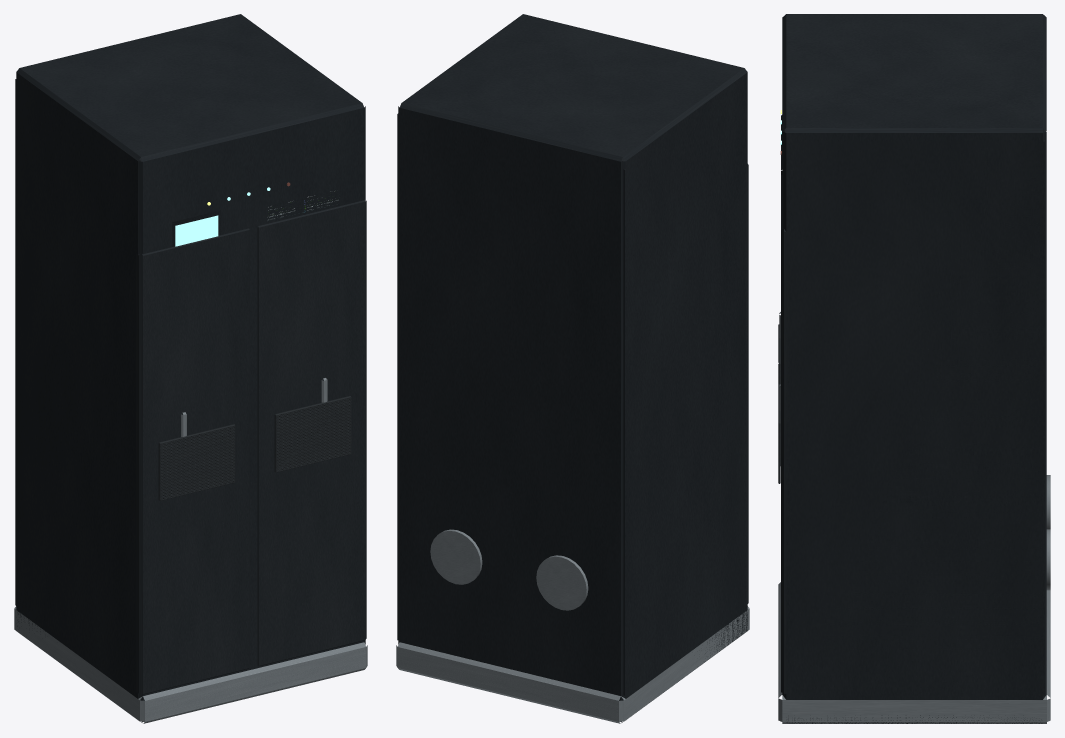
Rendered from ups_battery_cabinet.gltf.
3 views of the same model, side by side, from view 1: azimuth 30°, elevation 25°; view 2: azimuth 150°, elevation 25°; view 3: azimuth 270°, elevation 25° (orthographic). The views are drawn at different scales.
Visible parts, largest first — view 1: ups_cabinet_frame, ups_battery_cabinet_distance_shell, ups_door_left_panel, ups_door_right_panel, ups_telemetry_display; view 2: ups_battery_cabinet_distance_shell, ups_cabinet_frame, ups_cooling_fan_left, ups_cooling_fan_right, ups_door_left_panel; view 3: ups_battery_cabinet_distance_shell, ups_cabinet_frame, ups_door_right_panel.
Part boxes in pixels (x1=…): ups_cabinet_frame: x1=14, y1=79, x2=367, y2=723; ups_battery_cabinet_distance_shell: x1=16, y1=14, x2=365, y2=722; ups_door_left_panel: x1=136, y1=228, x2=249, y2=694; ups_door_right_panel: x1=257, y1=199, x2=366, y2=666; ups_telemetry_display: x1=172, y1=189, x2=339, y2=246; ups_battery_cabinet_distance_shell: x1=398, y1=14, x2=747, y2=722; ups_cabinet_frame: x1=396, y1=82, x2=749, y2=723; ups_cooling_fan_left: x1=536, y1=555, x2=588, y2=610; ups_cooling_fan_right: x1=430, y1=529, x2=482, y2=584; ups_door_left_panel: x1=746, y1=164, x2=748, y2=604; ups_battery_cabinet_distance_shell: x1=782, y1=14, x2=1046, y2=723; ups_cabinet_frame: x1=778, y1=128, x2=1050, y2=723; ups_door_right_panel: x1=778, y1=175, x2=790, y2=694.
Size of what is drawn, in the model's own units: 0.86 by 2.04 by 0.8455.
10 materials, 7 textured.
